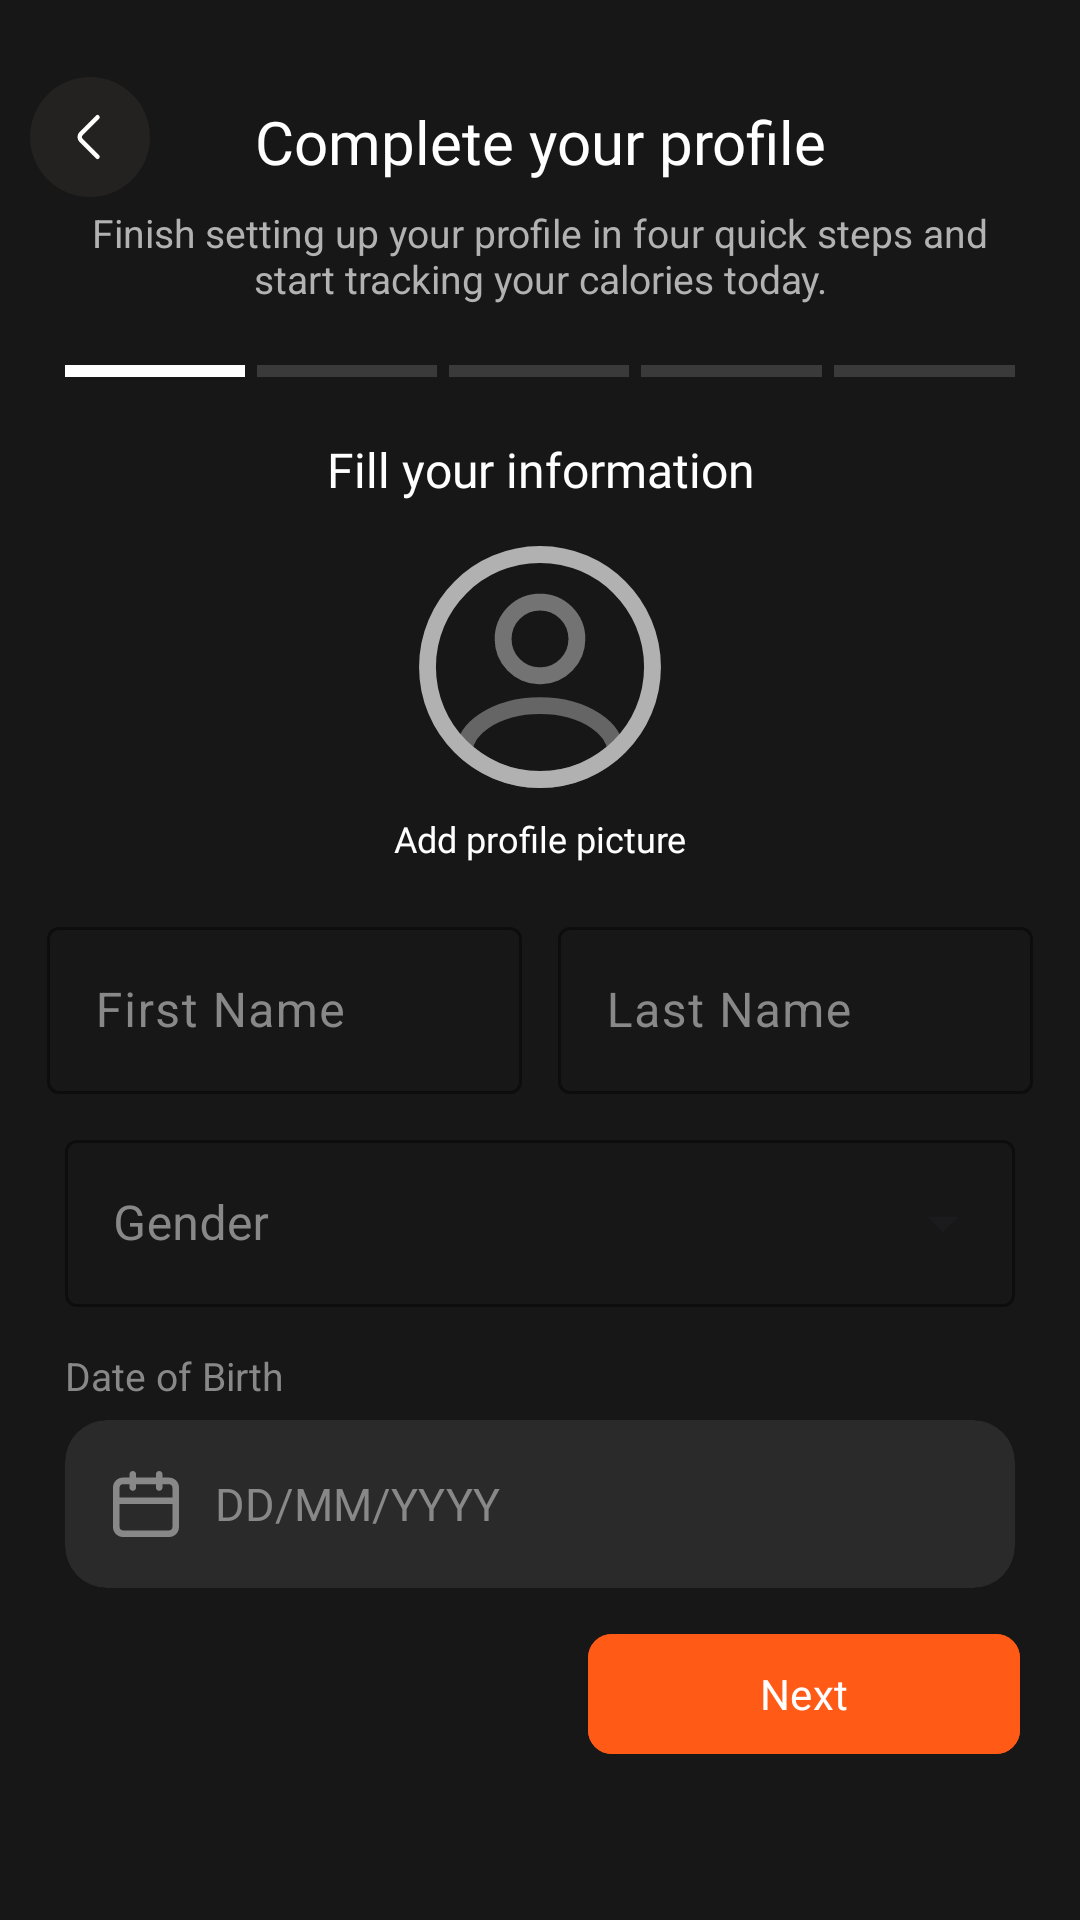

Where icons sit on this 1080*1920 app screen, as detection(x1, y1, x2, y2):
back: detection(30, 77, 150, 197)
Calendar icon: detection(113, 1471, 179, 1537)
User profile image: detection(419, 546, 661, 788)
